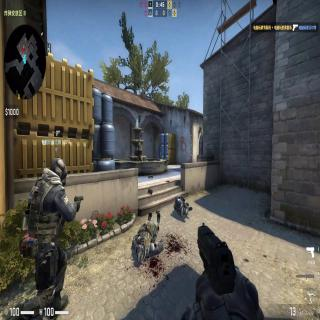T-Body: (136, 140, 143, 162)
T-Head: (138, 140, 142, 146)
